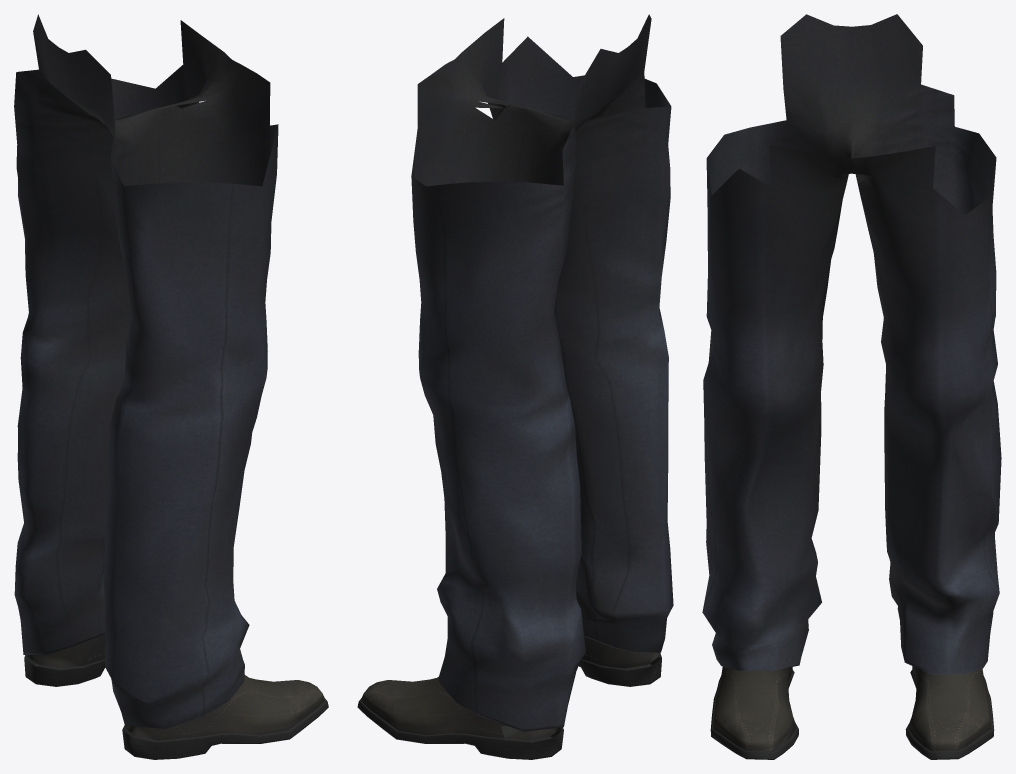
The model's file is cientifico_cuerpo_abajo.obj.
3 renders of one model, left to right at view 1: azimuth 30°, elevation 25°; view 2: azimuth 150°, elevation 25°; view 3: azimuth 270°, elevation 25°, orthographic. The views are drawn at different scales.
Parts seen in each view (by area): view 1: cientificoA_cuerpo_abajo_Material.001; view 2: cientificoA_cuerpo_abajo_Material.001; view 3: cientificoA_cuerpo_abajo_Material.001.
Part boxes in pixels (x1,y1,x2,y2): cientificoA_cuerpo_abajo_Material.001: (14, 14, 328, 759); cientificoA_cuerpo_abajo_Material.001: (357, 14, 673, 759); cientificoA_cuerpo_abajo_Material.001: (702, 14, 1001, 759).
Size of the model in its own units: 0.2362 by 0.7169 by 0.2979.
